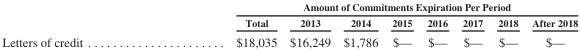table: (1, 1, 577, 48)
table column: (1, 1, 158, 48), (158, 1, 282, 48), (282, 1, 336, 48), (524, 1, 577, 48), (336, 1, 384, 48), (384, 1, 419, 48), (419, 1, 454, 48), (454, 1, 489, 48), (489, 1, 524, 48)
table column header: (1, 1, 577, 31)
table row: (1, 14, 577, 31), (1, 31, 577, 48), (1, 1, 577, 14)
table spanning cell: (158, 1, 577, 14)
